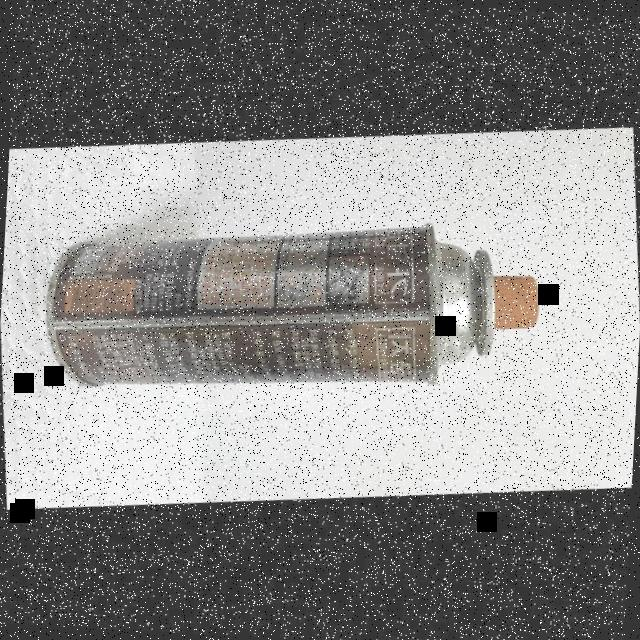chemical_spray_can: (22, 178, 548, 428)
